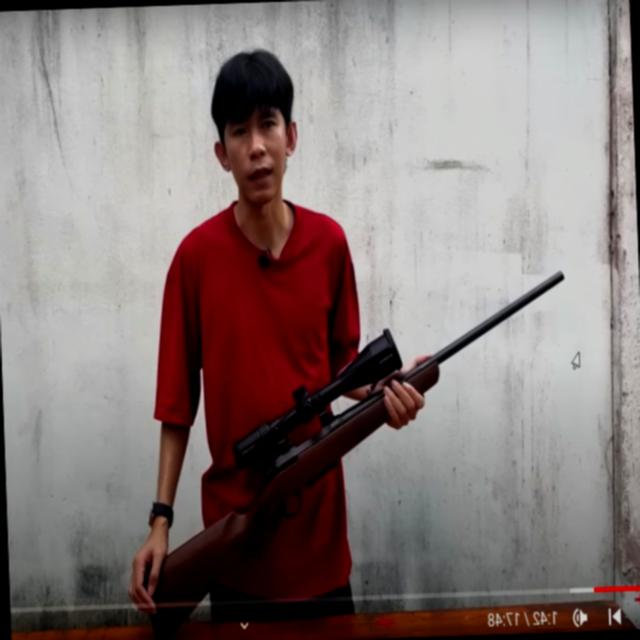rifle: (111, 255, 585, 640)
